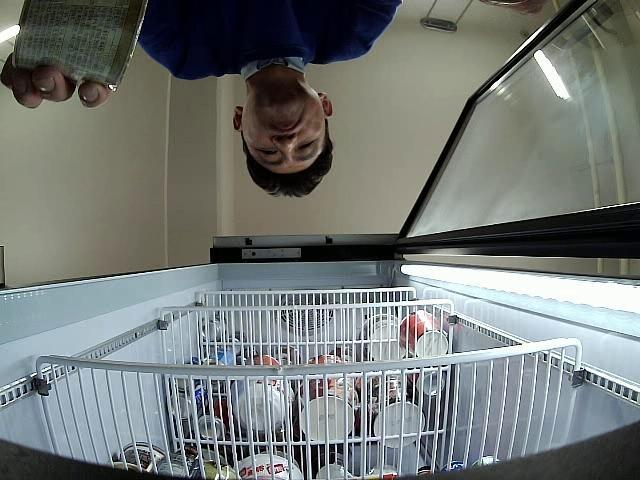04_chapagetti_S: (12, 0, 148, 92)
